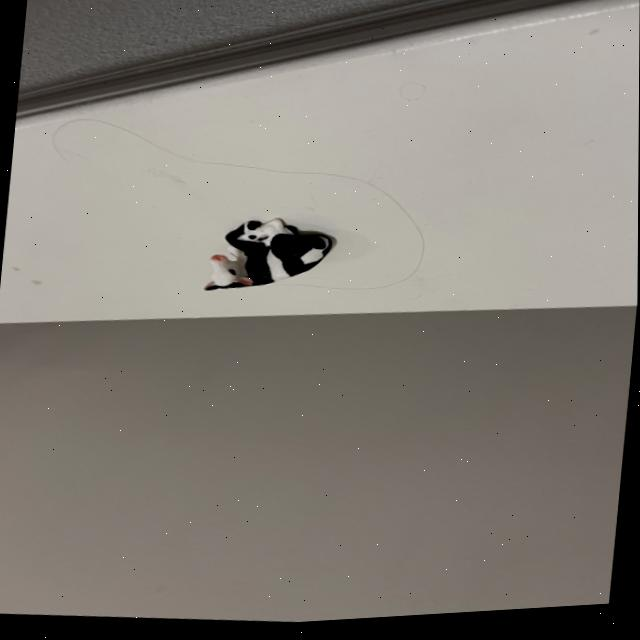cow: (199, 216, 335, 293)
